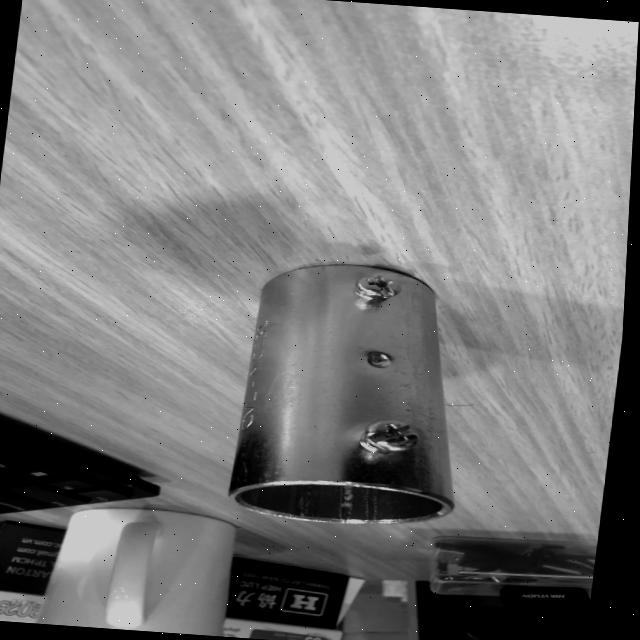Co_Lon: (228, 258, 467, 529)
